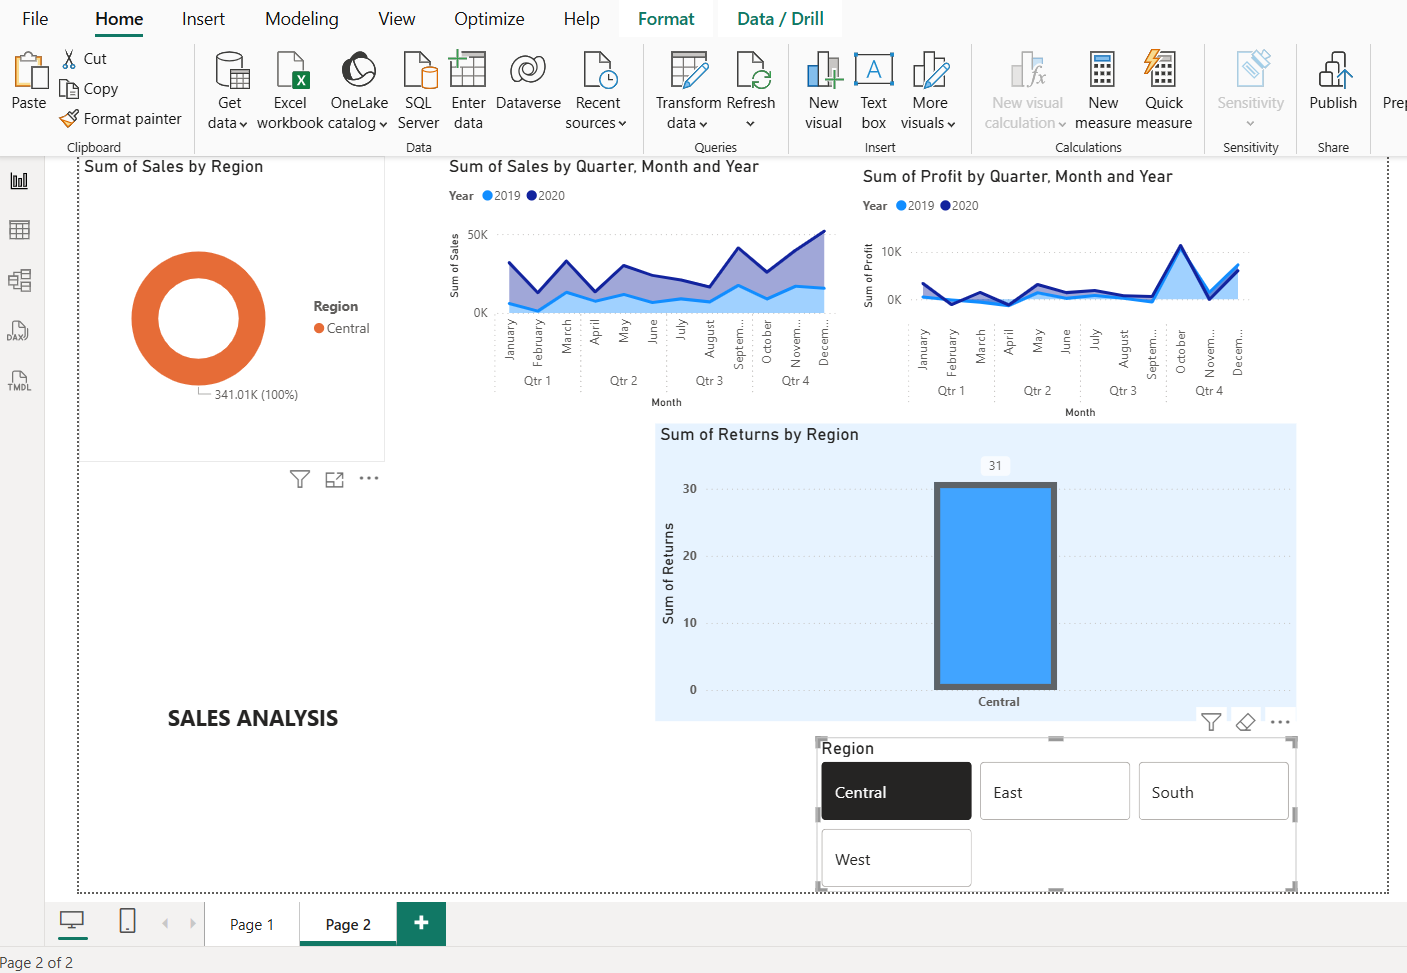

This screenshot's page, from the dashboard's own definition file:
{"tool":"powerbi","page":{"name":"Page 2","canvas":[1280,720],"ordinal":1},"visuals":[{"type":"donutChart","fields":{"Category":["Sheet1.Region"],"Y":["Sum(Sheet1.Sales)"]},"box":[0,0,299.1,299.1],"z":0},{"type":"stackedAreaChart","fields":{"Y":["Sum(Sheet1.Sales)"],"Category":["Sheet1.Order Date.Variation.Date Hierarchy.Quarter","Sheet1.Order Date.Variation.Date Hierarchy.Month"],"Series":["Sheet1.Order Date.Variation.Date Hierarchy.Year"]},"box":[356.8,0,388.3,252.5],"z":1000},{"type":"stackedAreaChart","fields":{"Category":["Sheet1.Order Date.Variation.Date Hierarchy.Quarter","Sheet1.Order Date.Variation.Date Hierarchy.Month"],"Series":["Sheet1.Order Date.Variation.Date Hierarchy.Year"],"Y":["Sum(Sheet1.Profit)"]},"box":[761.6,9.6,388.3,252.5],"z":2000},{"type":"advancedSlicerVisual","fields":{"Values":["Sheet1.Region"]},"box":[721.8,568.1,469.3,152.3],"z":3000},{"type":"textbox","box":[82.3,529.7,192.1,45.3],"z":4000},{"type":"lineStackedColumnComboChart","fields":{"Y":["Sum(Sheet1.Returns)"],"Category":["Sheet1.Region"]},"box":[564,262.1,627.1,290.9],"z":5000}]}

Visuals, with their boxes on the page's 1280x720 design canvas (x1, y1, x2, y2). These are canvas units, not pixel positions in the 1407x973 screenshot, which may show the page scaled, cropped or inside an application window:
donutChart - Sheet1.Region x Sum(Sheet1.Sales): (0,0,299,299)
stackedAreaChart - Sum(Sheet1.Sales) x Sheet1.Order Date.Variation.Date Hierarchy.Quarter: (357,0,745,252)
stackedAreaChart - Sheet1.Order Date.Variation.Date Hierarchy.Quarter x Sheet1.Order Date.Variation.Date Hierarchy.Month: (762,10,1150,262)
advancedSlicerVisual - Sheet1.Region: (722,568,1191,720)
textbox: (82,530,274,575)
lineStackedColumnComboChart - Sum(Sheet1.Returns) x Sheet1.Region: (564,262,1191,553)
